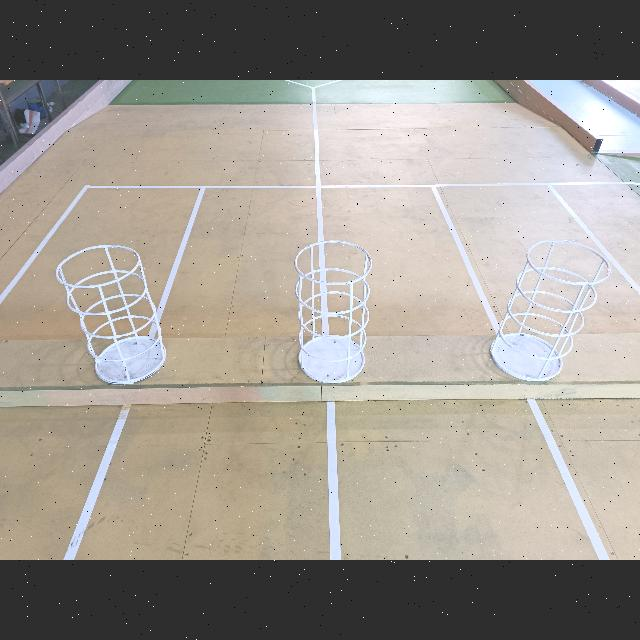S: (489, 239, 611, 380), (56, 245, 166, 384), (293, 240, 372, 382)
